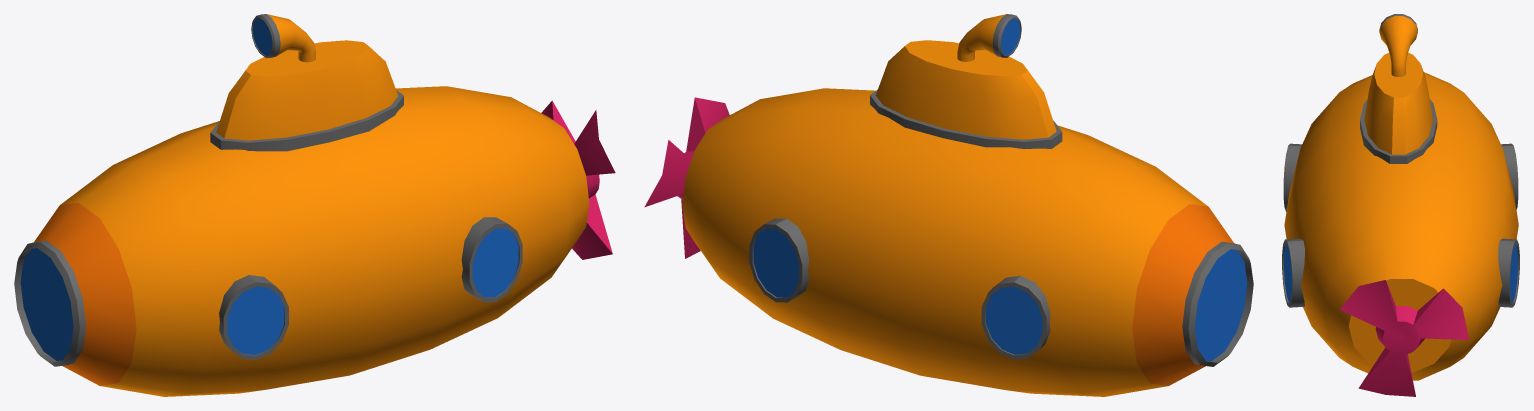
The model's file is Submarine.fbx.
3 renders of one model, left to right at view 1: azimuth 30°, elevation 25°; view 2: azimuth 150°, elevation 25°; view 3: azimuth 270°, elevation 25°, orthographic. The views are drawn at different scales.
Parts seen in each view (by area): view 1: Submarine; view 2: Submarine; view 3: Submarine.
Part boxes in pixels (left/top/right/bottom): Submarine: left=14, top=14, right=615, bottom=396; Submarine: left=644, top=14, right=1253, bottom=396; Submarine: left=1282, top=14, right=1519, bottom=396.
Bounding box in the file's own units: 23.75 × 15.12 × 10.96.
Materials: 1 (1 with a texture image).
